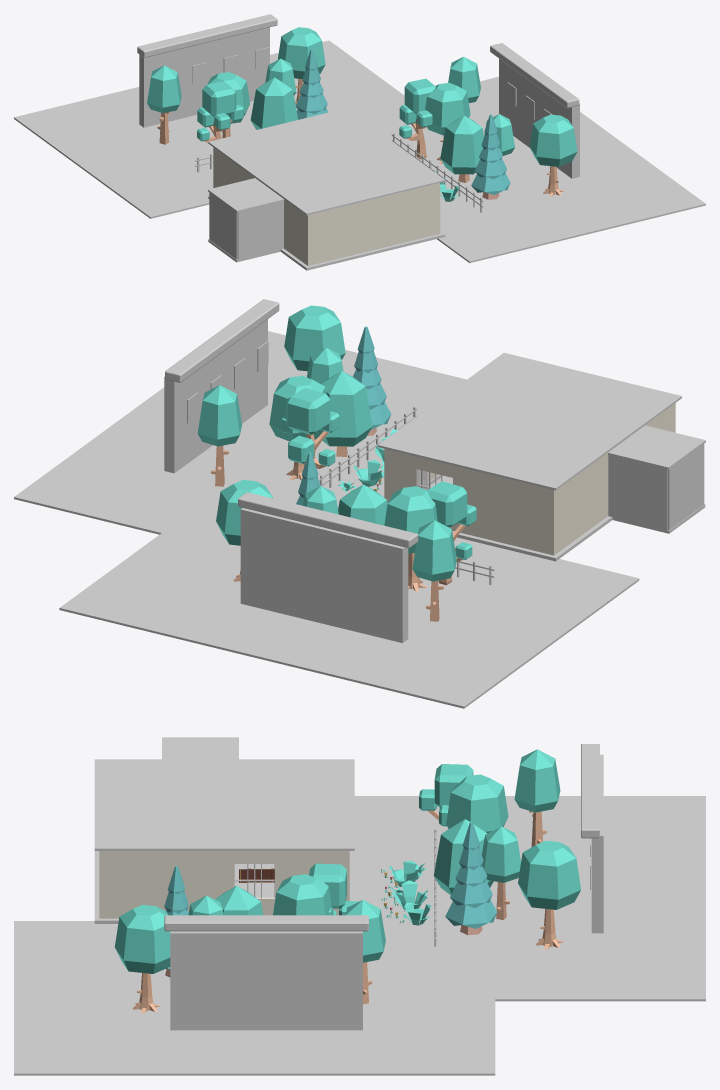
The model's file is bedroom_parents.glb.
3 renders of one model, top to bottom at view 1: azimuth 30°, elevation 25°; view 2: azimuth 150°, elevation 25°; view 3: azimuth 270°, elevation 25°, orthographic. The views are drawn at different scales.
Visible parts, largest first — view 1: grass, k_leafsGreen, ceiling, wall, house_far, wall_next, roof_far, k_leafsDark, k_woodBark, window_far, floor_wood, fence; view 2: grass, ceiling, house_far, k_leafsGreen, wall, wall_next, roof_far, k_leafsDark, k_woodBark, fence, floor_wood, window_far (+1 smaller); view 3: grass, ceiling, k_leafsGreen, house_far, wall, roof_far, k_leafsDark, k_woodBark, k_grass, floor_wood.
Part boxes in pixels (x1=…): grass: x1=14, y1=40, x2=705, y2=262; k_leafsGreen: x1=147, y1=27, x2=577, y2=174; ceiling: x1=208, y1=108, x2=445, y2=215; wall: x1=213, y1=147, x2=440, y2=265; house_far: x1=139, y1=27, x2=579, y2=178; wall_next: x1=209, y1=192, x2=283, y2=259; roof_far: x1=137, y1=14, x2=579, y2=108; k_leafsDark: x1=295, y1=49, x2=510, y2=194; k_woodBark: x1=157, y1=78, x2=563, y2=196; window_far: x1=174, y1=47, x2=551, y2=119; floor_wood: x1=208, y1=196, x2=445, y2=270; fence: x1=195, y1=133, x2=483, y2=212; grass: x1=14, y1=331, x2=639, y2=708; ceiling: x1=377, y1=352, x2=705, y2=490; house_far: x1=164, y1=319, x2=408, y2=642; k_leafsGreen: x1=197, y1=305, x2=476, y2=581; wall: x1=384, y1=403, x2=675, y2=555; wall_next: x1=608, y1=444, x2=704, y2=530; roof_far: x1=165, y1=299, x2=418, y2=548; k_leafsDark: x1=296, y1=326, x2=391, y2=505; k_woodBark: x1=211, y1=431, x2=465, y2=621; fence: x1=318, y1=406, x2=494, y2=584; floor_wood: x1=428, y1=475, x2=612, y2=561; window_far: x1=187, y1=341, x2=268, y2=423; grass: x1=14, y1=796, x2=705, y2=1075; ceiling: x1=94, y1=737, x2=354, y2=850; k_leafsGreen: x1=114, y1=749, x2=580, y2=973; house_far: x1=170, y1=754, x2=603, y2=1030; wall: x1=99, y1=851, x2=349, y2=918; roof_far: x1=164, y1=744, x2=599, y2=931; k_leafsDark: x1=164, y1=822, x2=497, y2=969; k_woodBark: x1=132, y1=810, x2=563, y2=1013; k_grass: x1=380, y1=860, x2=431, y2=925; floor_wood: x1=94, y1=851, x2=354, y2=923.
Size of the model in its own units: 54.6 by 10.1 by 57.5.
